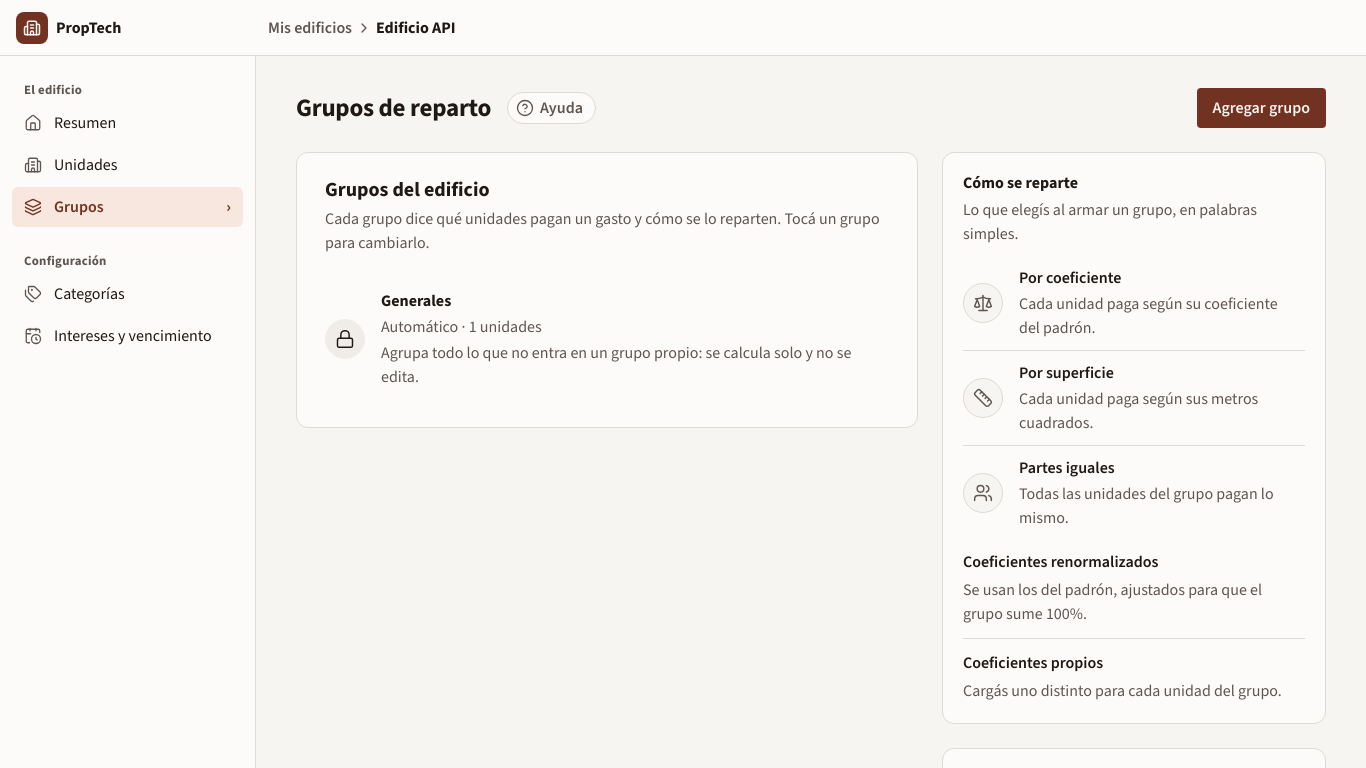
PantallaGrupos › "Agregar grupo" abre el panel de alta, con nombre, método y modo (sin clave, 6.3)
Click the button "Agregar grupo" at (1261, 108), box [1196,88,1326,128]
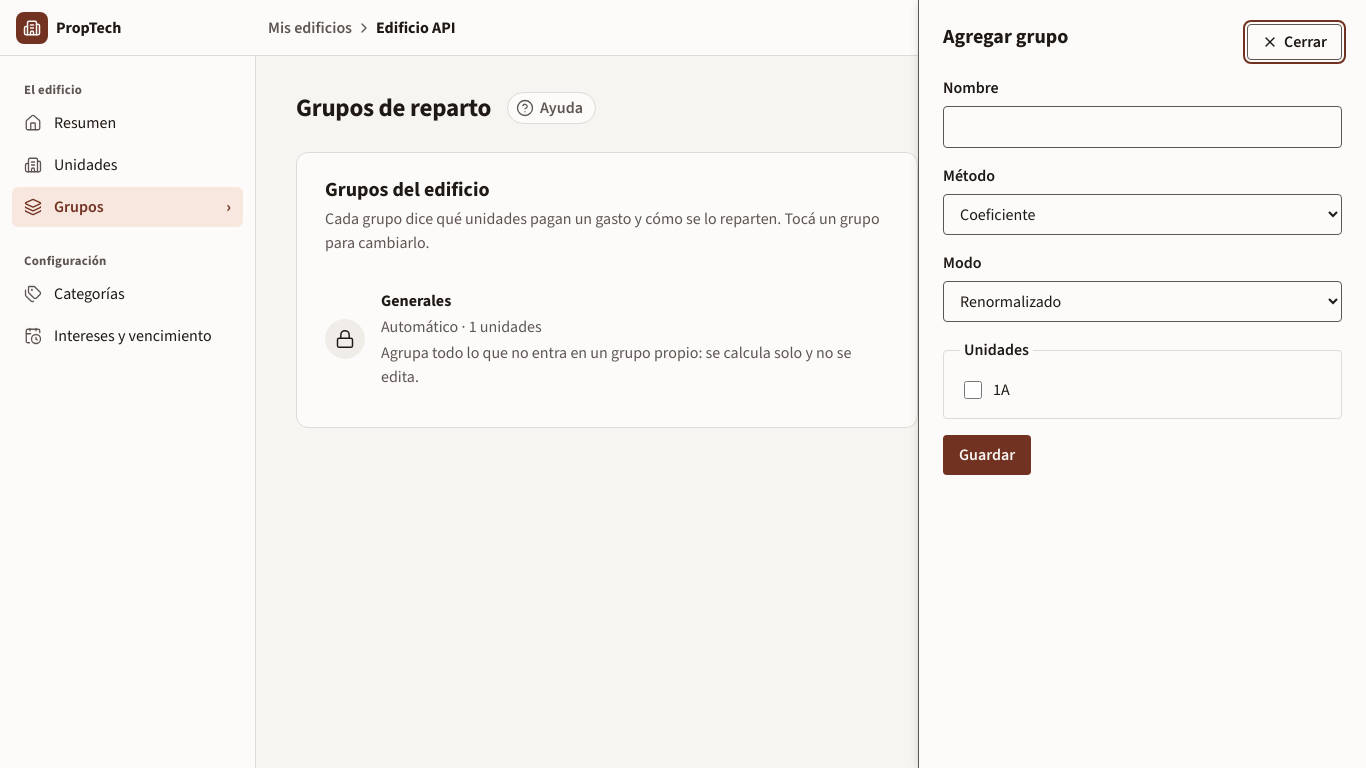
Now the field labelled "Nombre" is shown, box [943,106,1342,148]
Now the dropdown labelled "Método" is shown, box [943,194,1342,235]
Now the dropdown labelled "Modo" is shown, box [943,281,1342,322]
